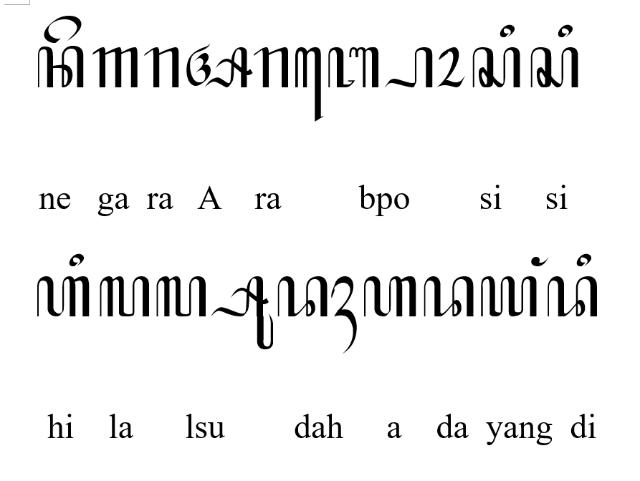A: (187, 44, 253, 88)
_h1: (331, 276, 359, 354)
_p: (384, 46, 434, 88)
_su: (210, 275, 274, 351)
b: (328, 47, 380, 89)
d: (277, 276, 329, 318), (423, 276, 475, 318), (546, 276, 598, 318)
e: (44, 14, 82, 44)
e1: (294, 47, 324, 123)
g: (92, 48, 140, 88)
h: (36, 276, 90, 320), (363, 276, 417, 318)
i: (576, 252, 592, 268), (500, 24, 516, 38), (68, 254, 84, 268), (558, 24, 572, 38)
l: (100, 274, 150, 318), (156, 276, 208, 318)
n: (36, 46, 84, 88)
ng: (530, 256, 550, 266)
o: (437, 46, 465, 88)
r: (143, 46, 180, 88), (253, 46, 289, 88)
s: (530, 46, 580, 88), (472, 46, 520, 88)
y: (480, 276, 538, 318)
